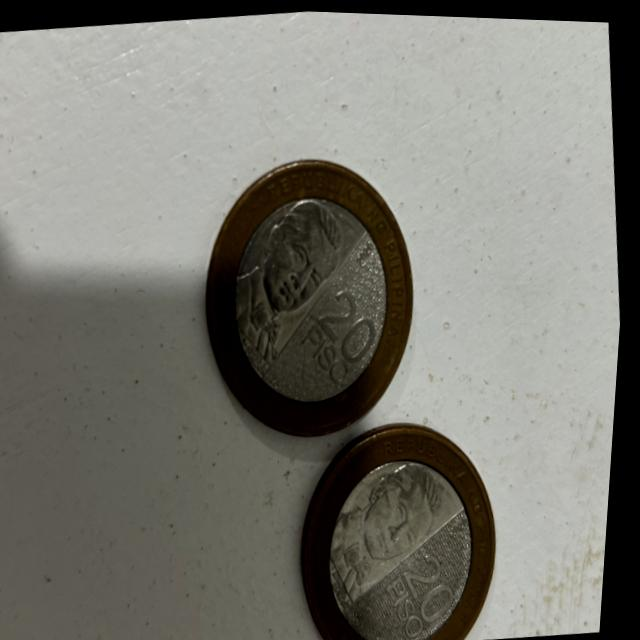20_New_Front: (303, 277, 388, 388), (386, 539, 466, 640)
